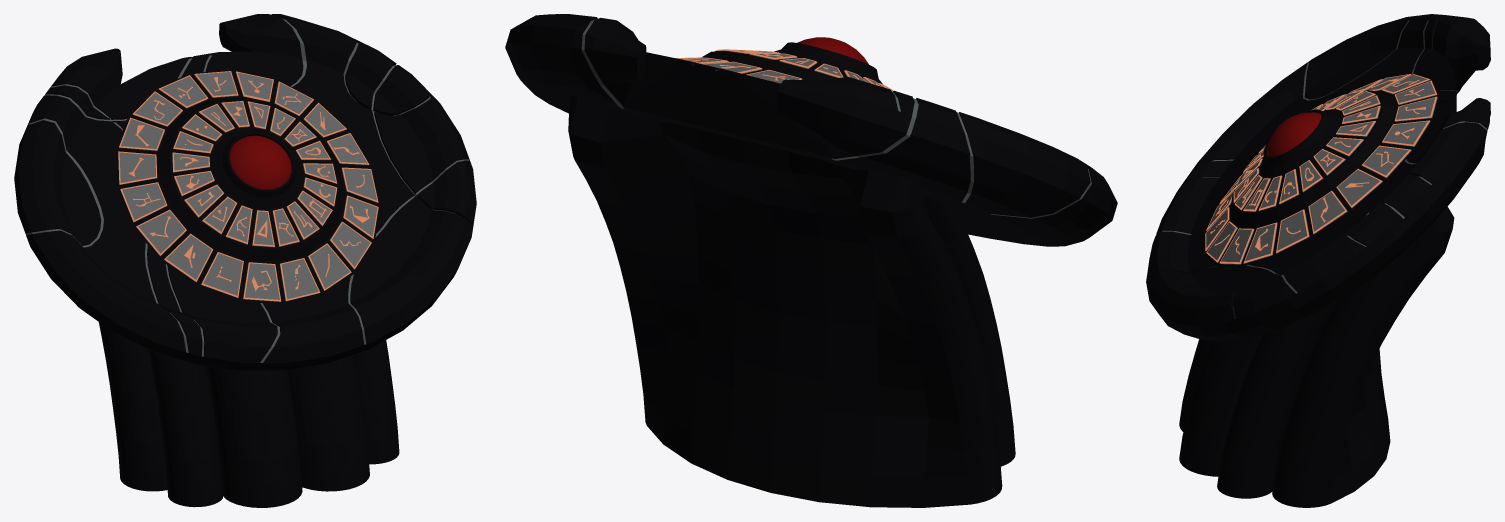
File: Stargate_DHD.fbx
The picture shows the model from 3 angles, left to right: view 1: azimuth 30°, elevation 25°; view 2: azimuth 150°, elevation 25°; view 3: azimuth 270°, elevation 25°; orthographic projection. The views are drawn at different scales.
Visible parts, largest first — view 1: DHD_Disc, Pied, Cercle.BASE, Sphère, Cercle.016, Cercle.015, Cercle.014, Cercle.017, Cercle.013, Cercle.018, Cercle.012, Cercle.019 (+23 smaller); view 2: Pied, DHD_Disc, Cercle.BASE, Sphère; view 3: DHD_Disc, Pied, Cercle.BASE, Sphère, Cercle.023, Cercle.024, Cercle.025, Cercle.022, Cercle.026, Cercle.021, Cercle.027, Cercle.020 (+10 smaller).
Boxes of the visible parts, bbox=[...] form: DHD_Disc: bbox=[14, 14, 476, 370]; Pied: bbox=[98, 322, 399, 507]; Cercle.BASE: bbox=[115, 70, 380, 304]; Sphère: bbox=[229, 135, 291, 189]; Cercle.016: bbox=[201, 252, 243, 297]; Cercle.015: bbox=[164, 233, 213, 282]; Cercle.014: bbox=[136, 209, 186, 256]; Cercle.017: bbox=[243, 262, 281, 301]; Cercle.013: bbox=[120, 182, 167, 222]; Cercle.018: bbox=[279, 258, 320, 301]; Cercle.012: bbox=[118, 151, 157, 185]; Cercle.019: bbox=[307, 243, 351, 290]; Pied: bbox=[568, 95, 1015, 507]; DHD_Disc: bbox=[505, 14, 1117, 246]; Cercle.BASE: bbox=[702, 42, 882, 84]; Sphère: bbox=[797, 37, 868, 64]; DHD_Disc: bbox=[1146, 14, 1490, 341]; Pied: bbox=[1179, 206, 1454, 507]; Cercle.BASE: bbox=[1204, 73, 1440, 266]; Sphère: bbox=[1267, 112, 1321, 156]; Cercle.023: bbox=[1308, 191, 1347, 234]; Cercle.024: bbox=[1336, 169, 1382, 208]; Cercle.025: bbox=[1362, 145, 1411, 178]; Cercle.022: bbox=[1276, 209, 1309, 253]; Cercle.026: bbox=[1382, 120, 1430, 146]; Cercle.021: bbox=[1243, 222, 1277, 263]; Cercle.027: bbox=[1394, 96, 1437, 121]; Cercle.020: bbox=[1219, 228, 1254, 264].
Bounding box in the file's own units: 203 × 163 × 137.
